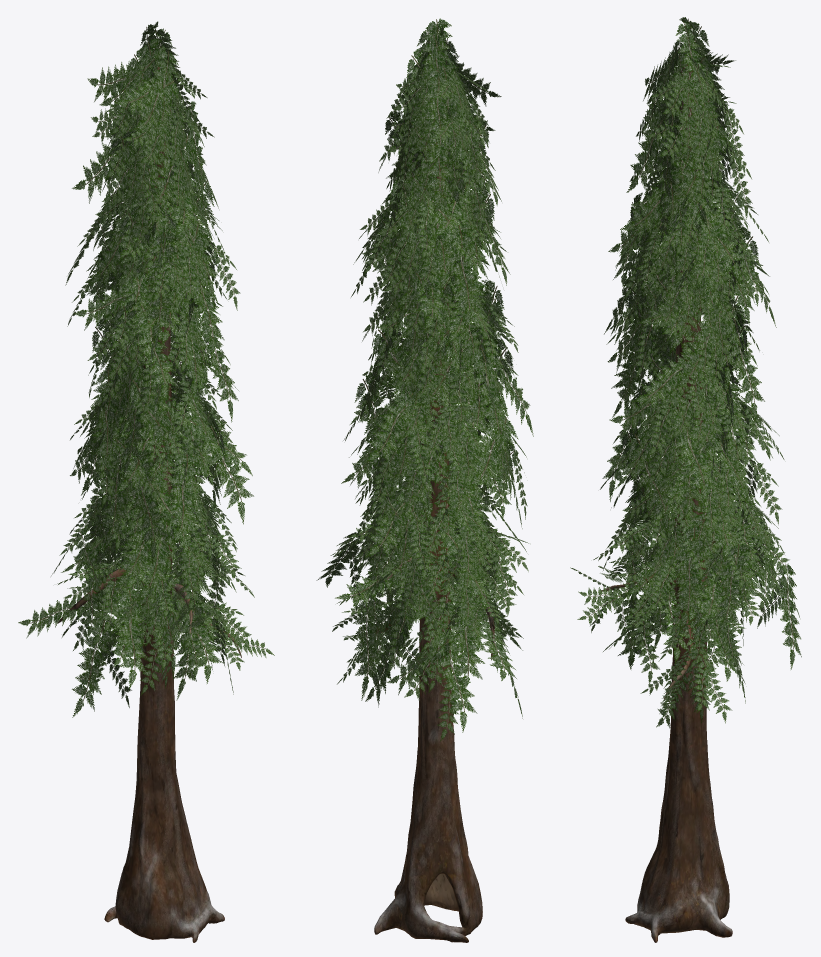
The model's file is western_red_cedar.glb.
The picture shows the model from 3 angles, left to right: view 1: azimuth 30°, elevation 25°; view 2: azimuth 150°, elevation 25°; view 3: azimuth 270°, elevation 25°; orthographic projection.
Parts seen in each view (by area): view 1: WesternRedCedar, WesternRedCedarFar; view 2: WesternRedCedar, WesternRedCedarFar; view 3: WesternRedCedar, WesternRedCedarFar.
Boxes of the visible parts, x1,y1,x2,y2 form: WesternRedCedar: (31,38,274,942); WesternRedCedarFar: (18,21,253,942); WesternRedCedar: (326,37,528,942); WesternRedCedarFar: (316,18,533,942); WesternRedCedar: (570,33,799,942); WesternRedCedarFar: (600,17,801,942).
Size of the model in its own units: 6.63 by 25.58 by 6.14.
Materials: 2 (2 with a texture image).
